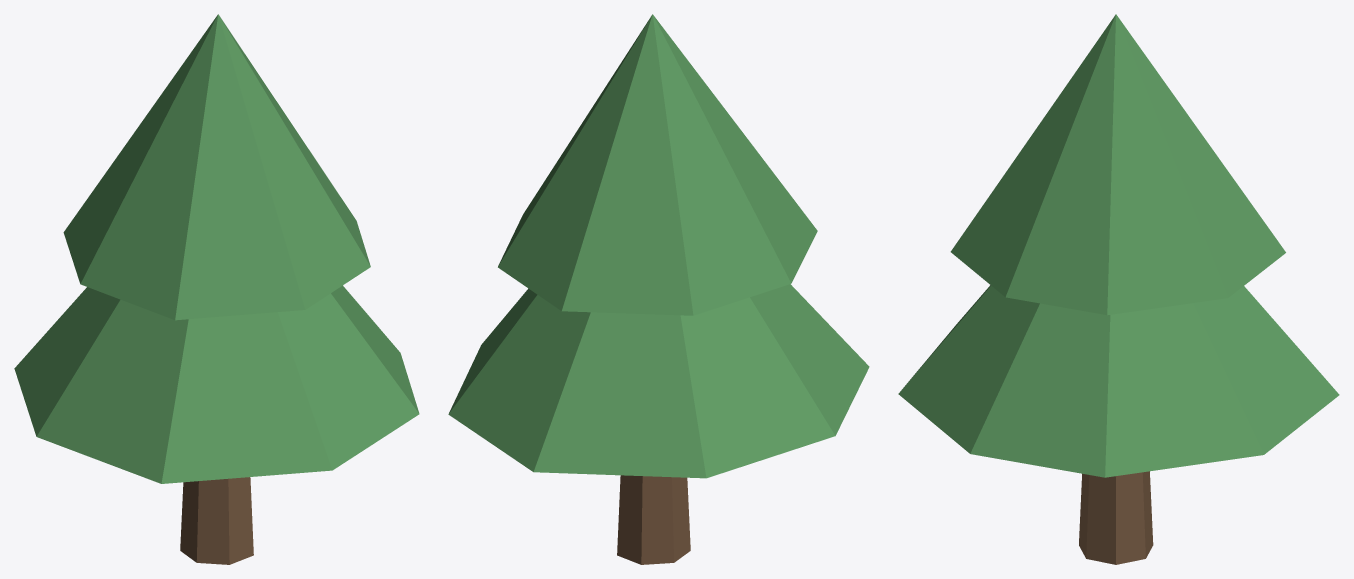
The model's file is tree.glb.
3 renders of one model, left to right at view 1: azimuth 30°, elevation 25°; view 2: azimuth 150°, elevation 25°; view 3: azimuth 270°, elevation 25°, orthographic.
Parts seen in each view (by area): view 1: tree; view 2: tree; view 3: tree.
Boxes of the visible parts, x1,y1,x2,y2 form: tree: [14, 14, 419, 564]; tree: [448, 14, 869, 564]; tree: [898, 14, 1339, 564].
Bounding box in the file's own units: 2.39 × 3.4 × 2.54.
